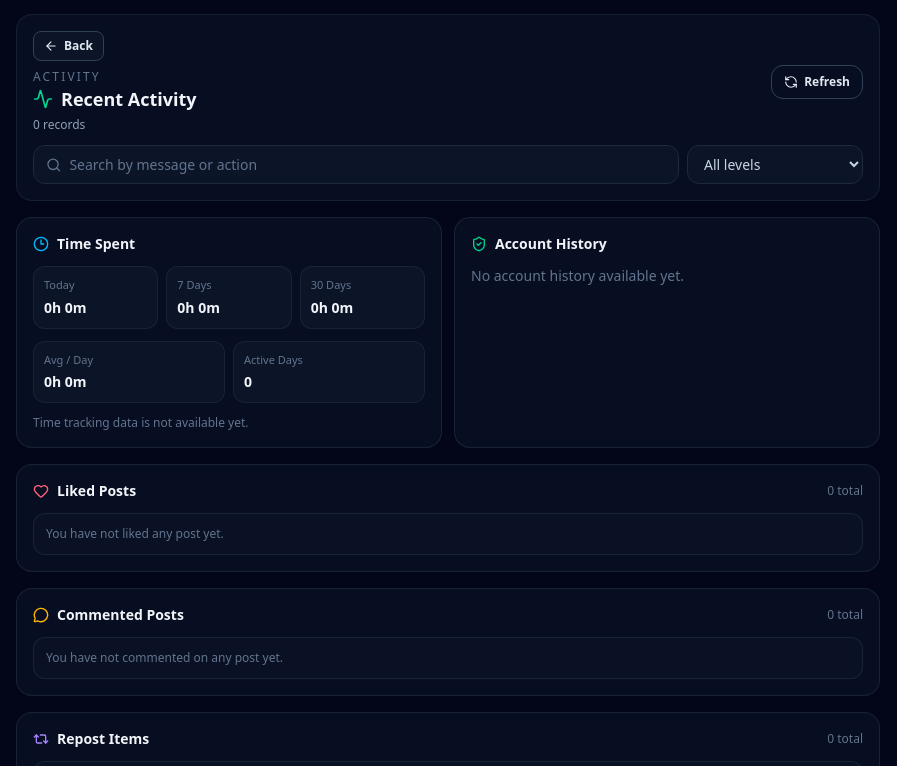
Test case: ActivityPage › activity data rendering › shows "No matching activity found" when filters are active with no results
This screenshot has width=897, height=766.
Note: Apply a filter
Select "Task" in the dropdown: x=775, y=164 left=687, top=145, right=863, bottom=184
Wait 300 ms
(page scrolled)
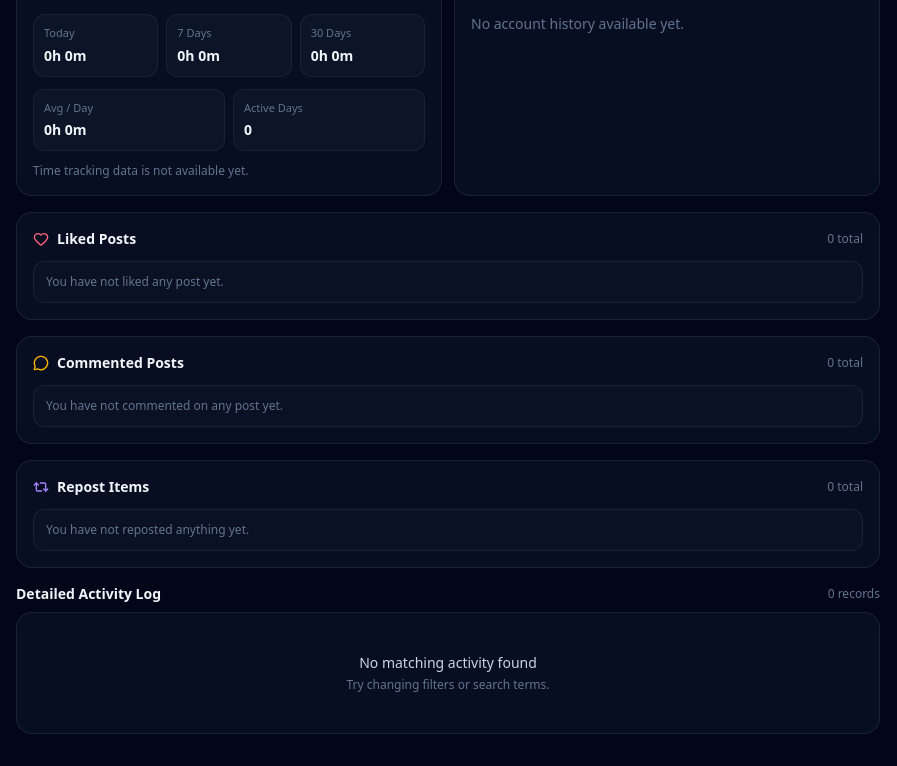
Expected: the text "No matching activity found" is shown, left=359, top=653, right=537, bottom=672
